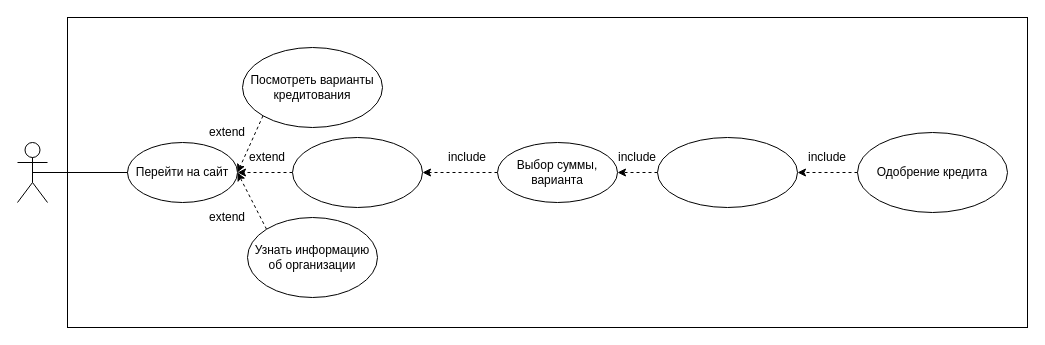
This 1045x345 diagram has some shape labels left out. Here are the shapes that lost their labels. From the top down, the centre of each, then its label:
point (32, 172): Actor
point (357, 172): Оформление займа
point (727, 172): Ввод личных данных
